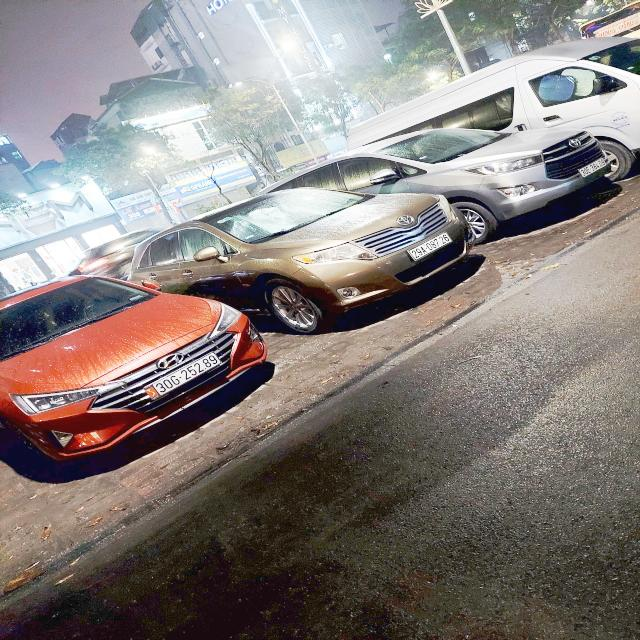license_plate: (146, 352, 225, 400), (409, 232, 454, 262), (579, 157, 610, 180)
